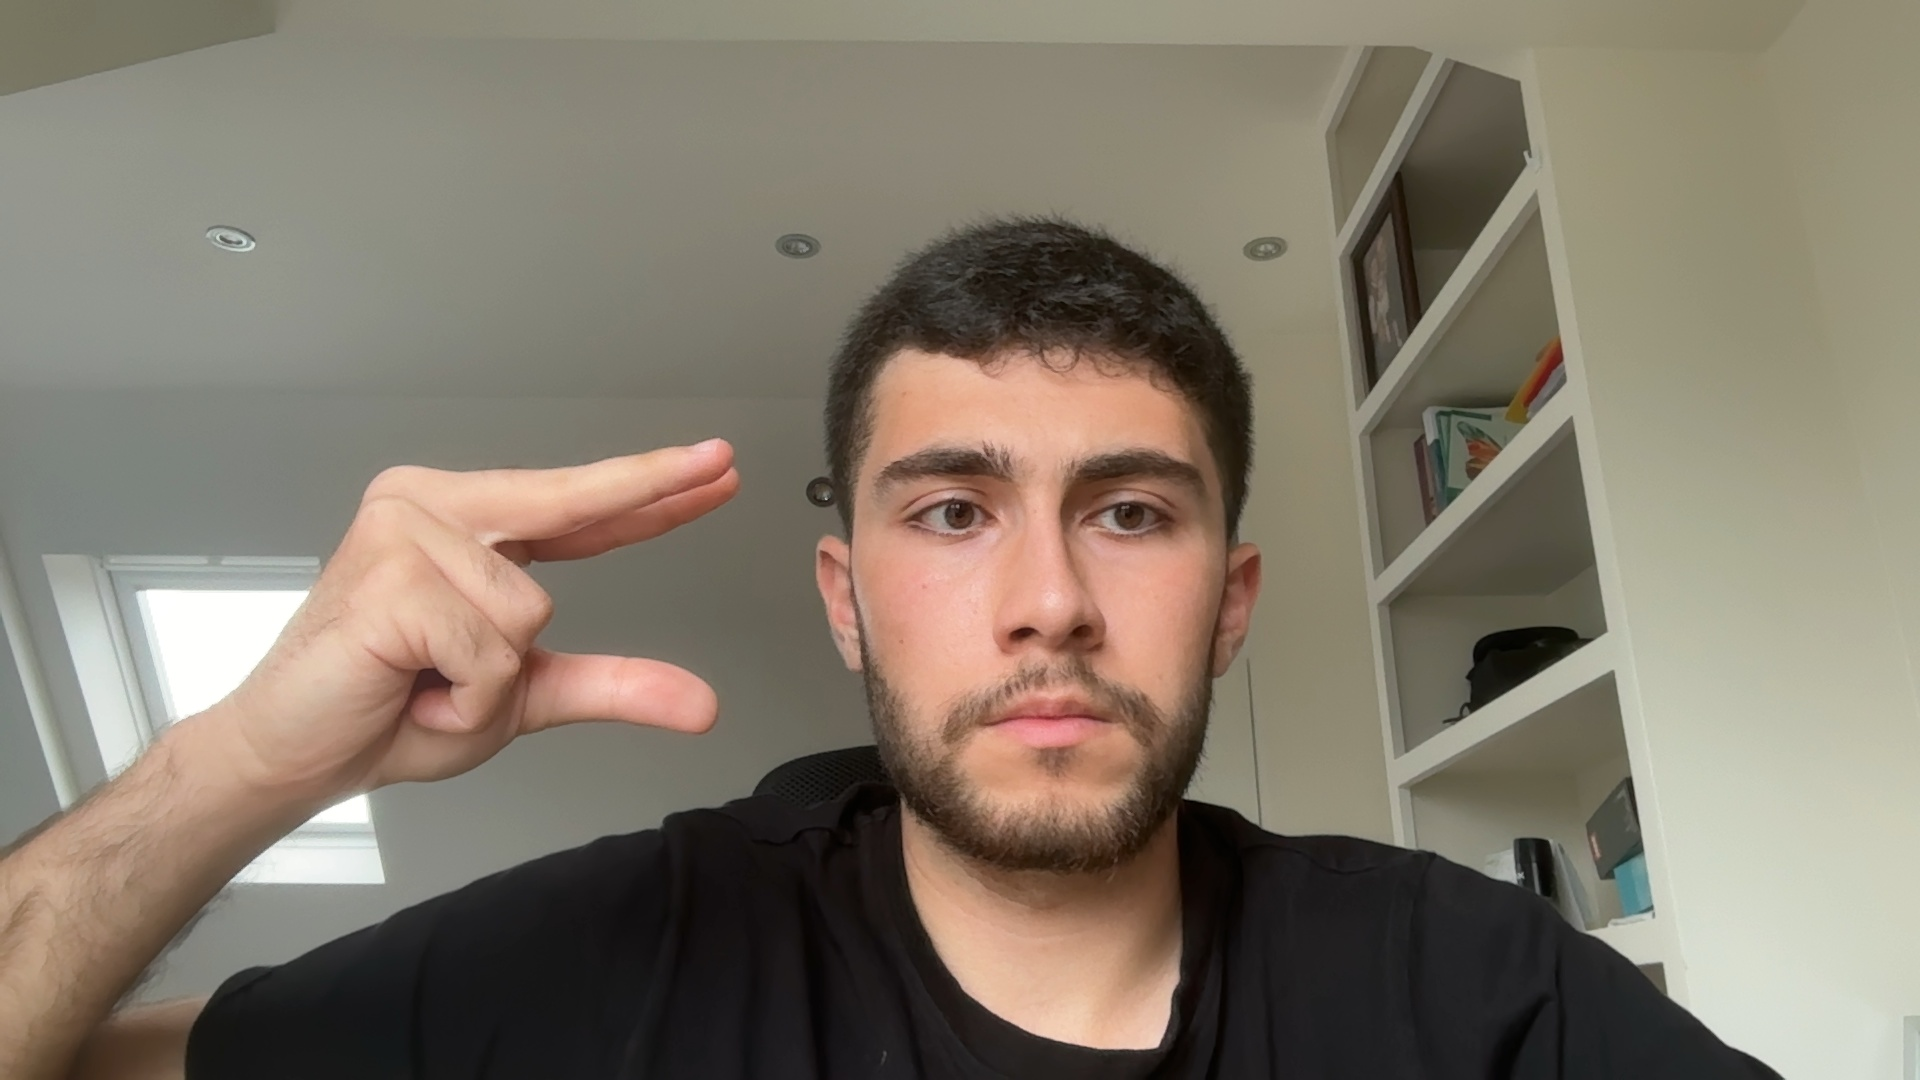no: (190, 421, 770, 800)
